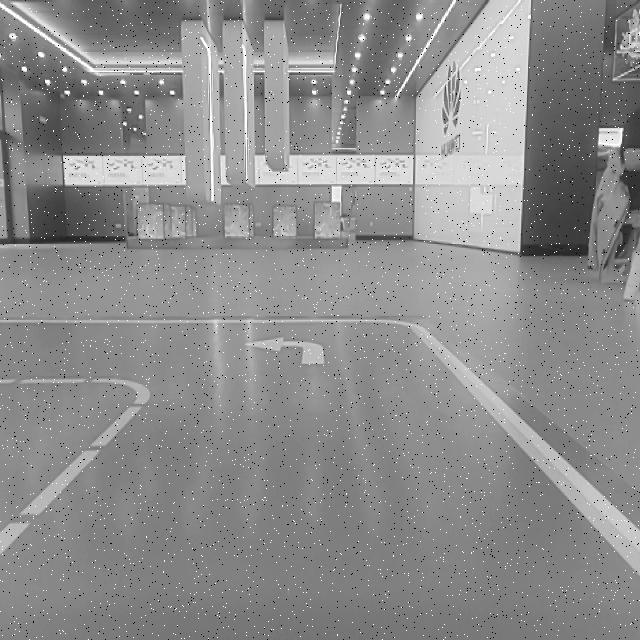left_lane: (0, 398, 149, 558)
right_lane: (421, 332, 640, 576)
